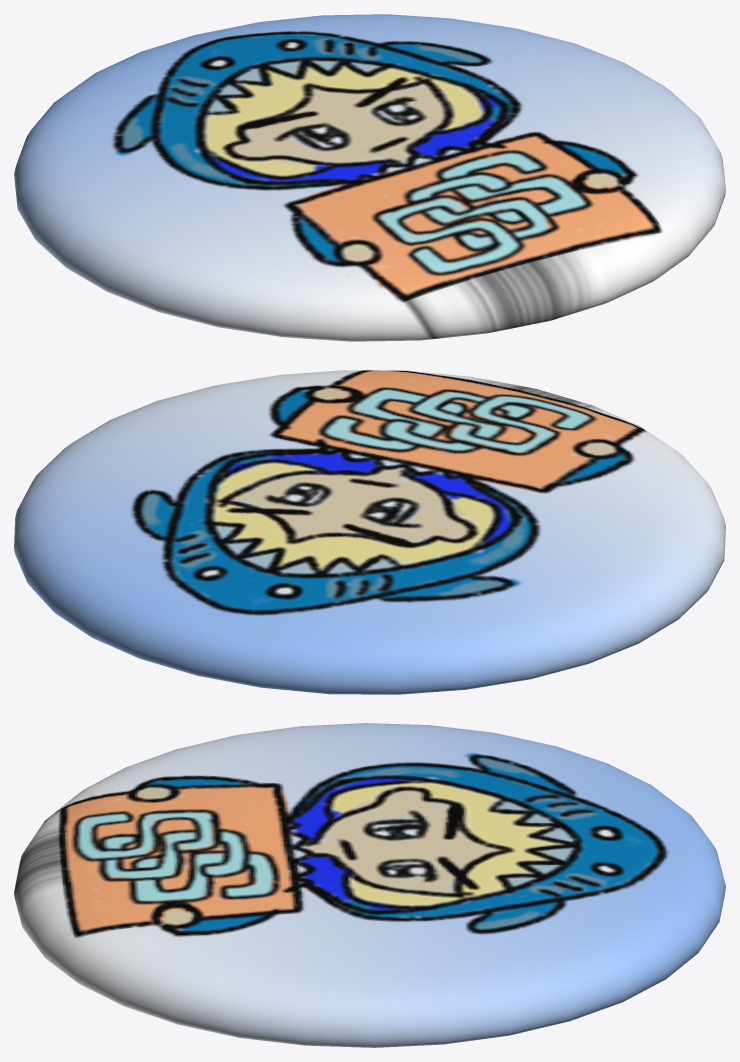
3 views of the same model, one above another, from view 1: azimuth 30°, elevation 25°; view 2: azimuth 150°, elevation 25°; view 3: azimuth 270°, elevation 25° (orthographic).
Parts seen in each view (by area): view 1: Button_Pin; view 2: Button_Pin; view 3: Button_Pin.
Part boxes in pixels (x1,y1,x2,y2): Button_Pin: [14, 14, 725, 341]; Button_Pin: [14, 370, 725, 694]; Button_Pin: [14, 723, 725, 1047].
Size of the model in its own units: 0.0629 by 0.00761 by 0.0629.
3 materials, 2 textured.
